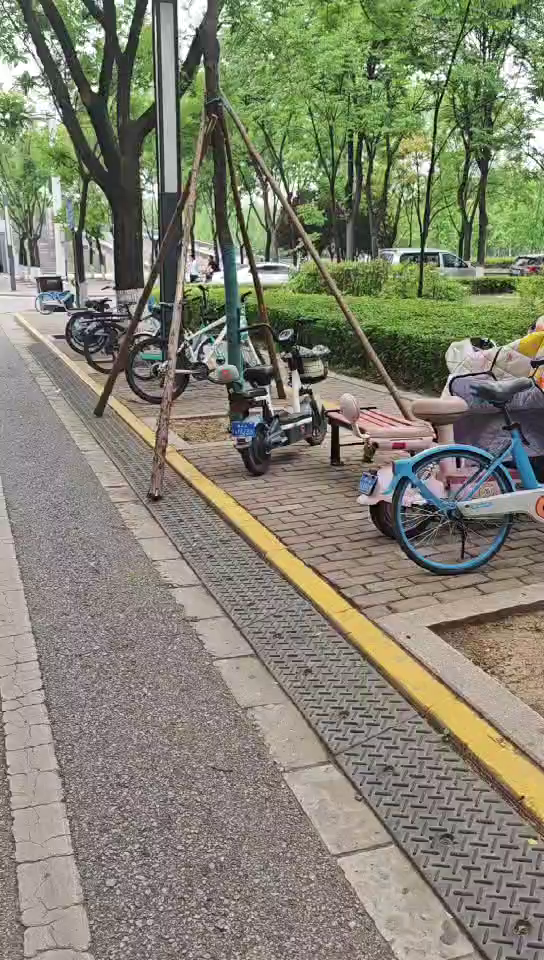others: (365, 325, 544, 506), (229, 318, 321, 464), (126, 293, 251, 398)
shared_bike_haluo: (390, 378, 544, 590)
